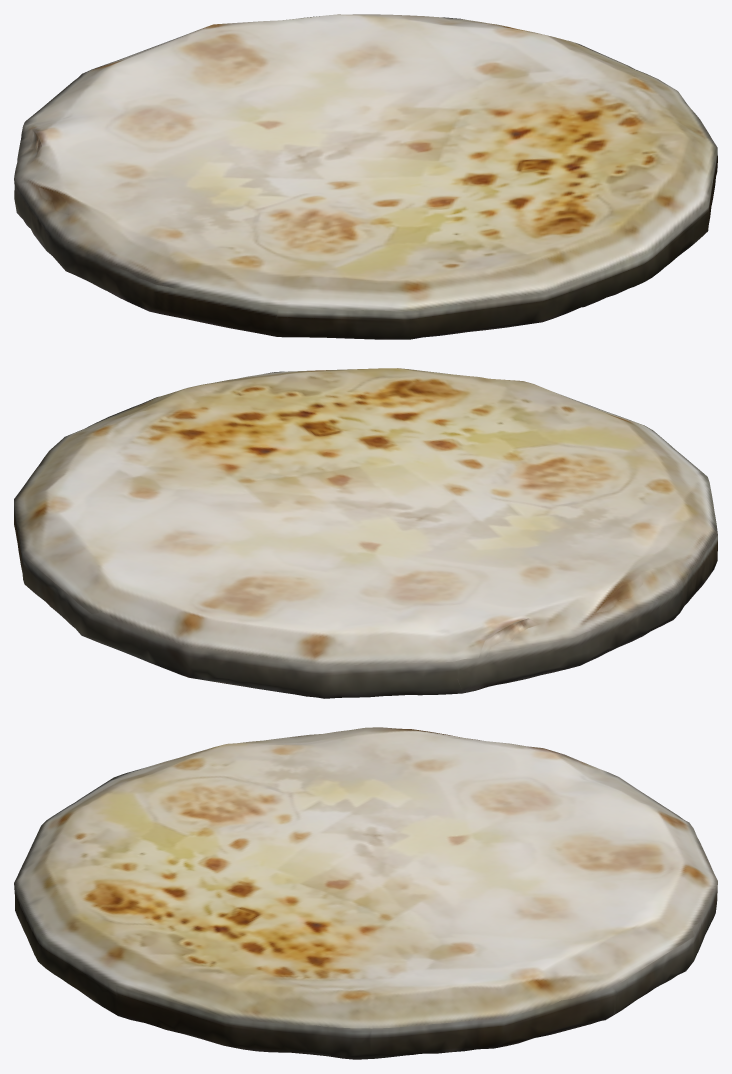
The model's file is lavash.glb.
3 renders of one model, top to bottom at view 1: azimuth 30°, elevation 25°; view 2: azimuth 150°, elevation 25°; view 3: azimuth 270°, elevation 25°, orthographic.
Visible parts, largest first — view 1: Tortilla; view 2: Tortilla; view 3: Tortilla.
Part boxes in pixels (x1,y1,x2,y2): Tortilla: [14, 14, 717, 339]; Tortilla: [14, 368, 717, 698]; Tortilla: [14, 727, 717, 1059].
Size of the model in its own units: 0.1998 by 0.0164 by 0.2.
Materials: 1 (1 with a texture image).
